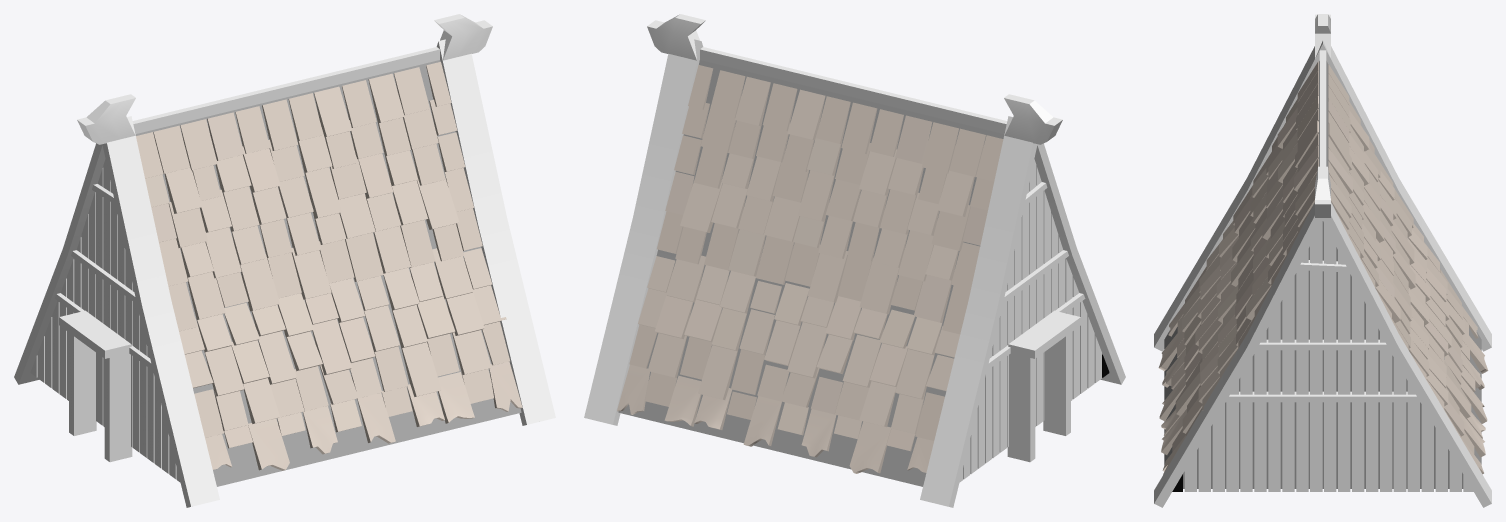
Rendered from livinghouse1.FBX.
3 renders of one model, left to right at view 1: azimuth 30°, elevation 25°; view 2: azimuth 150°, elevation 25°; view 3: azimuth 270°, elevation 25°, orthographic. The views are drawn at different scales.
Visible parts, largest first — view 1: Box014, Shape002, Shape007, Box001, Shape003, Shape005, Shape008, Shape009, Shape004, Shape010, Shape001; view 2: Box015, Shape002, Shape007, Box001, Shape003, Shape005, Shape008, Shape009, Shape004, Shape010, Shape001; view 3: Shape011, Box014, Box015, Shape002, Box001, Shape001, Shape010, Shape009, Shape005, Shape008.
Boxes of the visible parts, box(x1,y1,x2,y2) form: Box014: box(136, 62, 522, 470); Shape002: box(14, 39, 555, 507); Shape007: box(30, 159, 180, 482); Box001: box(135, 60, 521, 486); Shape003: box(69, 333, 132, 462); Shape005: box(133, 47, 439, 133); Shape008: box(132, 49, 439, 123); Shape009: box(77, 94, 135, 144); Shape004: box(59, 310, 131, 358); Shape010: box(434, 14, 492, 60); Shape001: box(54, 184, 152, 370); Box015: box(617, 65, 1003, 473); Shape002: box(584, 39, 1125, 507); Shape007: box(959, 159, 1109, 482); Box001: box(618, 60, 1004, 486); Shape003: box(1007, 333, 1070, 462); Shape005: box(700, 47, 900, 102); Shape008: box(831, 87, 1007, 133); Shape009: box(1004, 94, 1062, 144); Shape004: box(1008, 310, 1080, 358); Shape010: box(647, 14, 705, 60); Shape001: box(987, 182, 1085, 370); Shape011: box(1172, 222, 1473, 491); Box014: box(1158, 61, 1318, 474); Box015: box(1328, 64, 1488, 474); Shape002: box(1154, 41, 1491, 507); Box001: box(1164, 61, 1481, 488); Shape001: box(1226, 260, 1419, 402); Shape010: box(1315, 166, 1330, 219); Shape009: box(1315, 14, 1330, 58); Shape005: box(1319, 101, 1326, 166); Shape008: box(1319, 50, 1326, 102).
Bounding box in the file's own units: 43.19 × 34.7 × 32.51.
